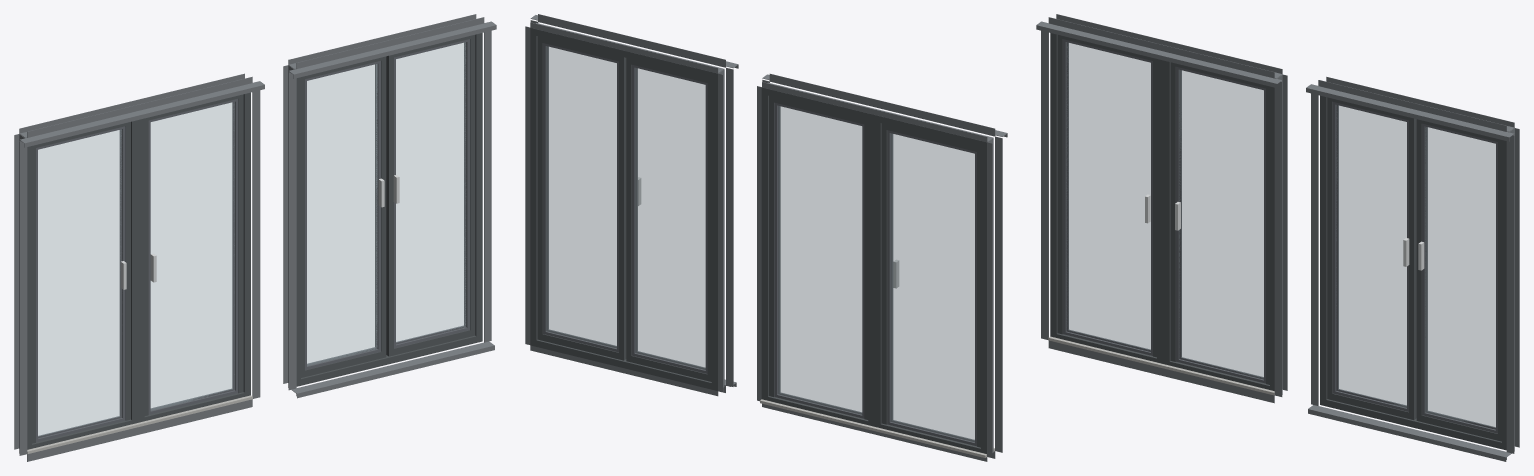
Rendered from Abertura_B1_lado_B_puerta_y_ventana_al_piso_3.77m.dae.
3 views of the same model, side by side, from view 1: azimuth 30°, elevation 25°; view 2: azimuth 150°, elevation 25°; view 3: azimuth 330°, elevation 25° (orthographic).
Parts seen in each view (by area): view 1: Vidrio (×2), Perfil aluminio (×2), Contramarco (×2), Junquillo (×2), Umbral hormigon; view 2: Vidrio (×2), Perfil aluminio (×2), Contramarco (×2), Junquillo (×2), Umbral hormigon; view 3: Vidrio (×2), Perfil aluminio (×2), Contramarco (×2), Junquillo (×2), Umbral hormigon.
Boxes of the visible parts, box(x1,y1,x2,y2) form: Vidrio (×2): box(38, 42, 465, 436); Perfil aluminio (×2): box(27, 33, 482, 449); Contramarco (×2): box(14, 14, 496, 461); Junquillo (×2): box(36, 39, 469, 442); Umbral hormigon: box(27, 395, 252, 454); Vidrio (×2): box(546, 46, 974, 441); Perfil aluminio (×2): box(530, 28, 987, 456); Contramarco (×2): box(525, 14, 1007, 461); Junquillo (×2): box(543, 43, 976, 446); Umbral hormigon: box(760, 399, 994, 457); Vidrio (×2): box(1067, 43, 1495, 427); Perfil aluminio (×2): box(1050, 33, 1506, 450); Contramarco (×2): box(1036, 14, 1519, 461); Junquillo (×2): box(1063, 39, 1497, 433); Umbral hormigon: box(1048, 336, 1274, 395).
Size of the model in its own units: 3.77 by 0.215 by 2.54.
